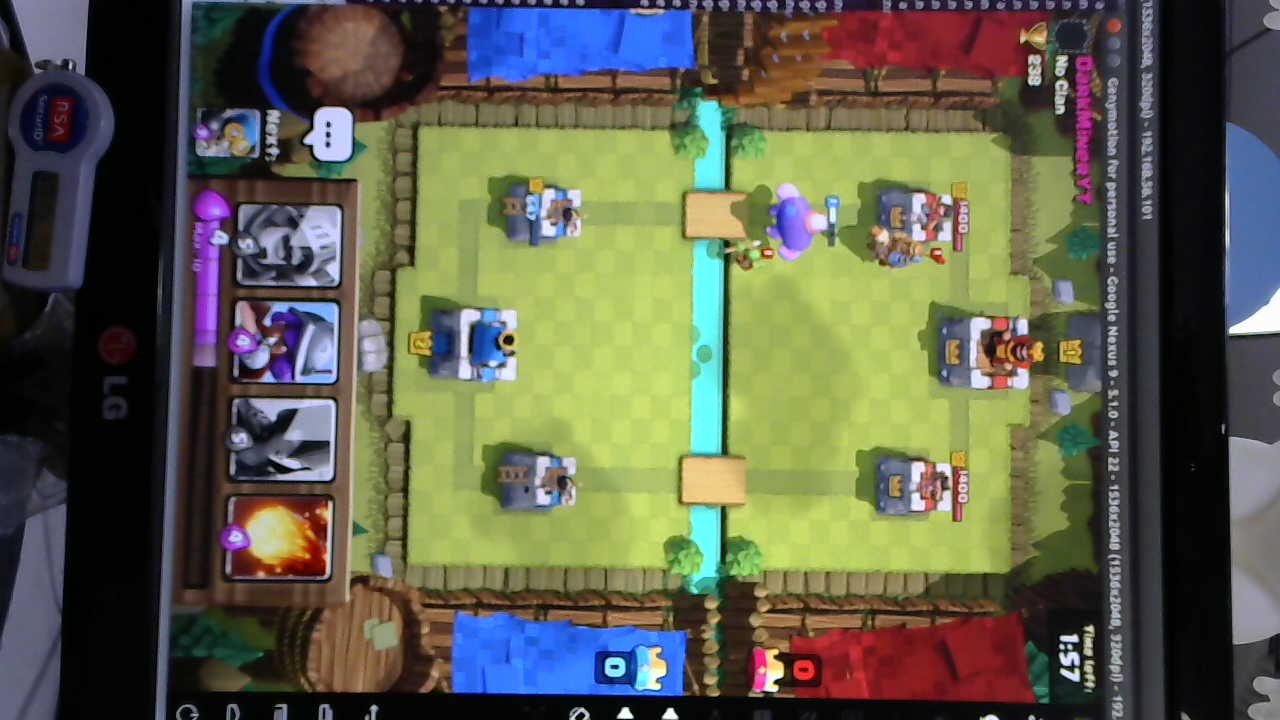arena: (500, 447, 584, 516), (500, 183, 586, 244)
earena: (870, 189, 952, 254), (871, 455, 955, 514)
eking: (929, 313, 1043, 394)
giant: (768, 185, 827, 263)
king: (427, 309, 518, 382)
